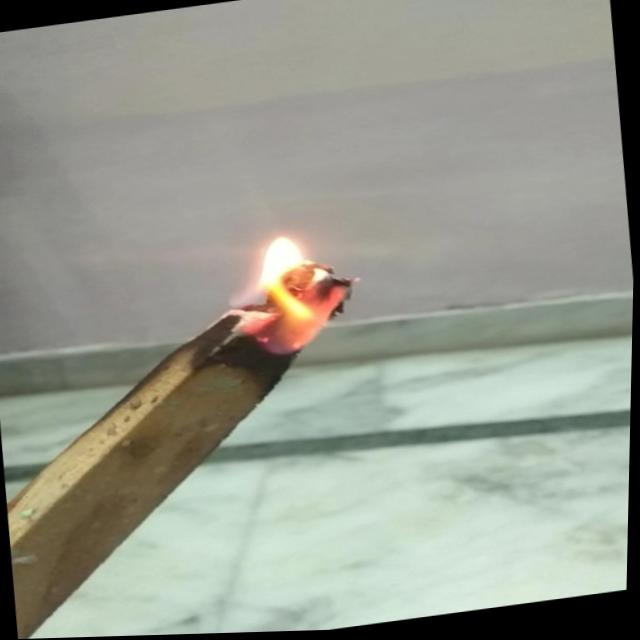fire: (210, 216, 369, 373)
